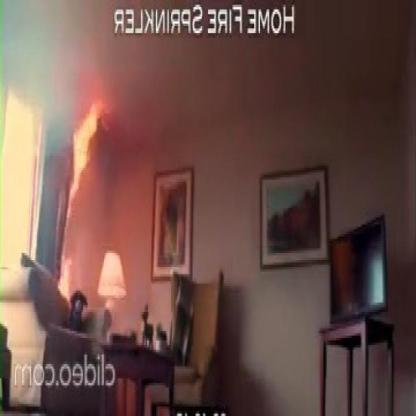Fire: (69, 82, 110, 227), (53, 260, 81, 300)
